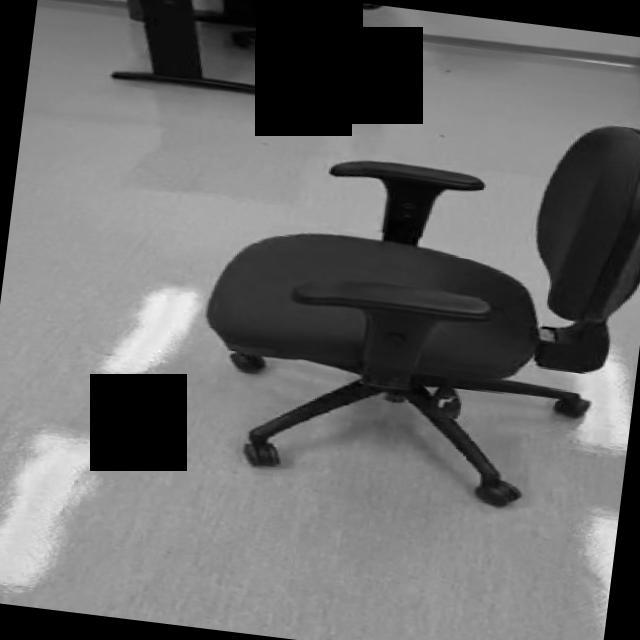chair: (183, 75, 640, 520)
